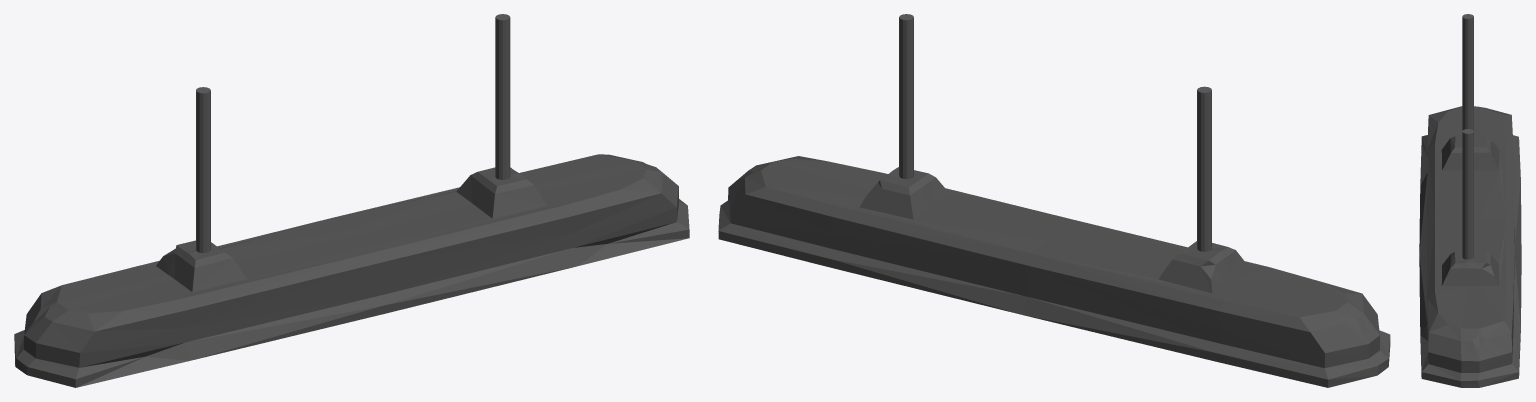
The model's file is Prop_Stand_001.fbx.
3 renders of one model, left to right at view 1: azimuth 30°, elevation 25°; view 2: azimuth 150°, elevation 25°; view 3: azimuth 270°, elevation 25°, orthographic. The views are drawn at different scales.
Visible parts, largest first — view 1: Prop_Stand_001; view 2: Prop_Stand_001; view 3: Prop_Stand_001.
Part boxes in pixels (x1,y1,x2,y2): Prop_Stand_001: [14, 14, 689, 387]; Prop_Stand_001: [718, 14, 1390, 387]; Prop_Stand_001: [1419, 14, 1521, 387].
Bounding box in the file's own units: 0.7648 × 0.2627 × 0.1302.
